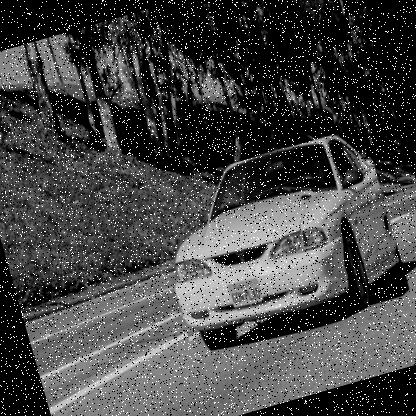Car: (146, 126, 412, 357)
